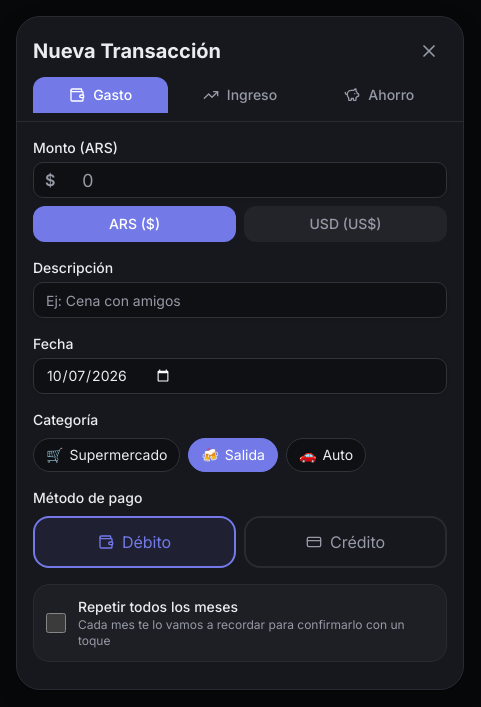
Scenario: AddTransactionModal: faster entry › suggests past descriptions and fills in their category
In the field with placeholder "Ej: Cena con amigos": (240, 300) left=33, top=282, right=447, bottom=318, type "co"
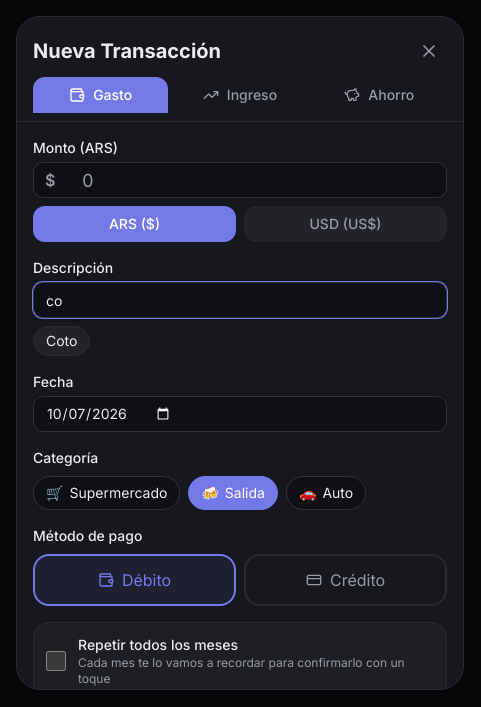
Click the button "Coto": click(62, 341) left=33, top=326, right=90, bottom=356
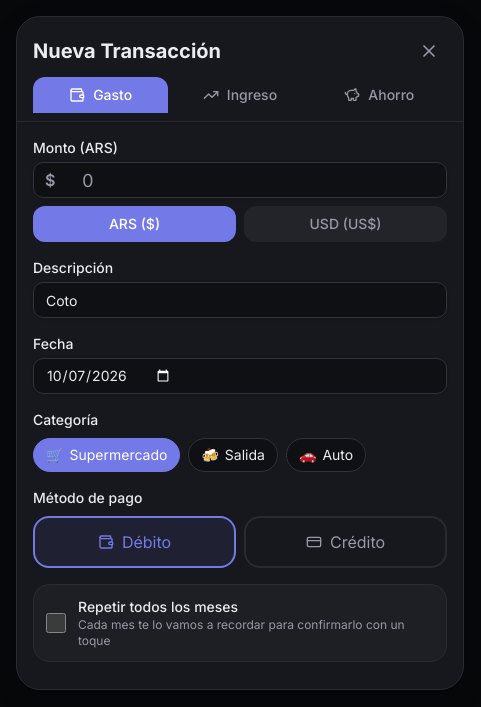
Now the field with placeholder "Ej: Cena con amigos" holds "Coto", box left=33, top=282, right=447, bottom=318
